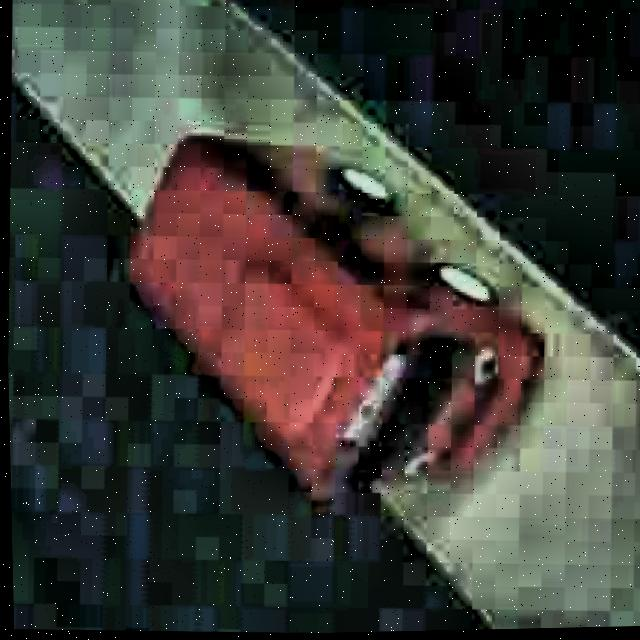bus: (112, 124, 554, 505)
